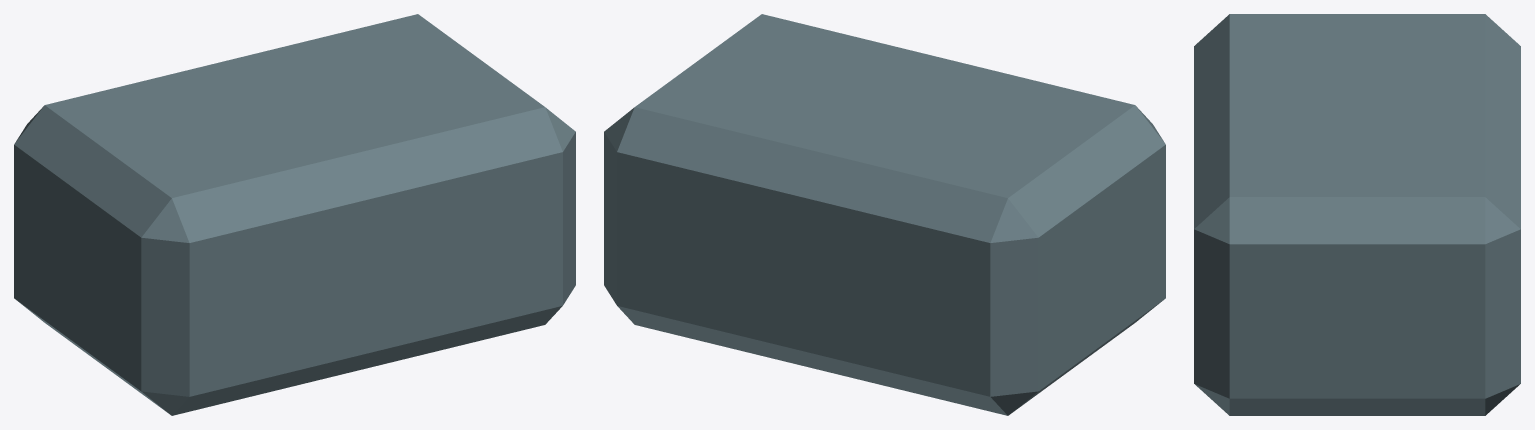
Rendered from stickBox.dae.
The picture shows the model from 3 angles, left to right: view 1: azimuth 30°, elevation 25°; view 2: azimuth 150°, elevation 25°; view 3: azimuth 270°, elevation 25°; orthographic projection.
Parts seen in each view (by area): view 1: stickBox; view 2: stickBox; view 3: stickBox.
Part boxes in pixels (x1,y1,x2,y2): stickBox: (14,14,575,415); stickBox: (604,14,1165,415); stickBox: (1194,14,1520,415).
Size of the model in its own units: 0.355 by 0.23 by 0.17.
